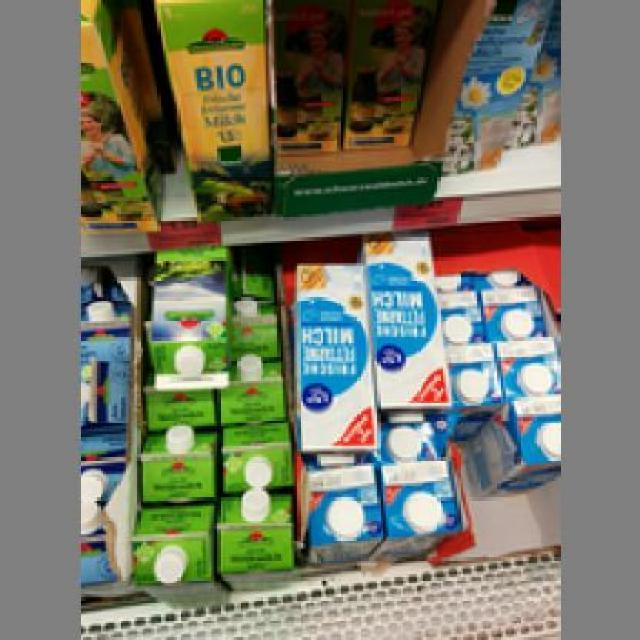Milk: (154, 0, 272, 226), (349, 231, 460, 426), (289, 257, 377, 466)
